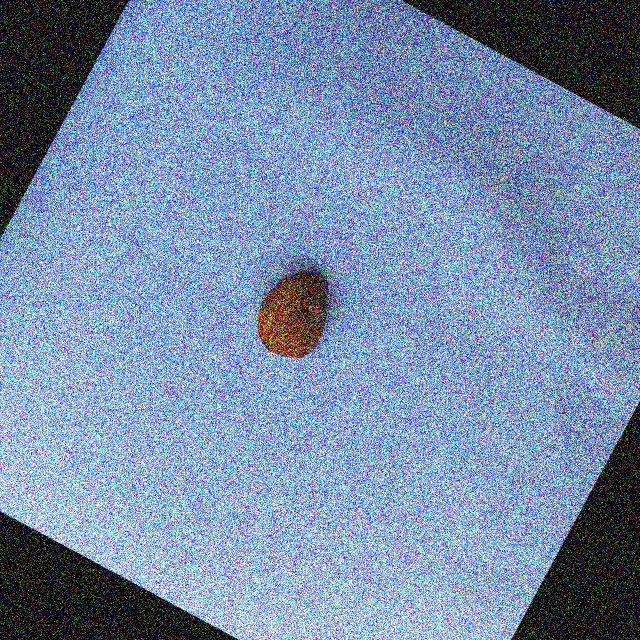grade3: (240, 253, 353, 375)
